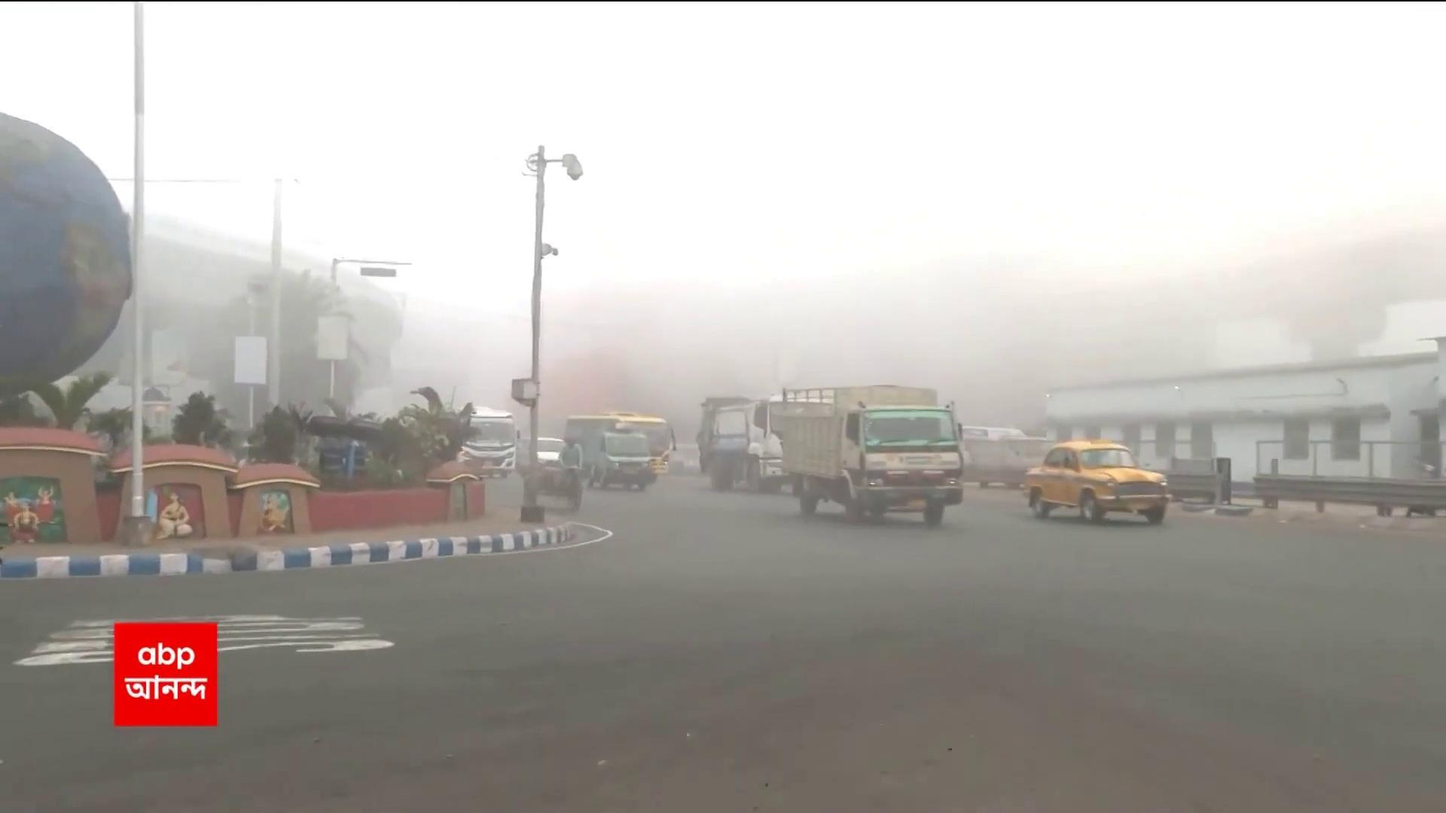Car: (1019, 436, 1173, 525)
Truck: (779, 379, 966, 525)
